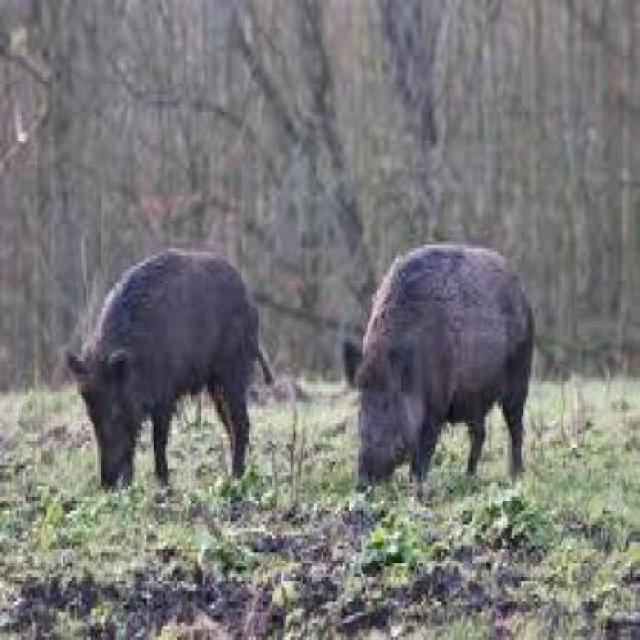wildboar: (62, 247, 278, 493), (338, 238, 538, 494)
